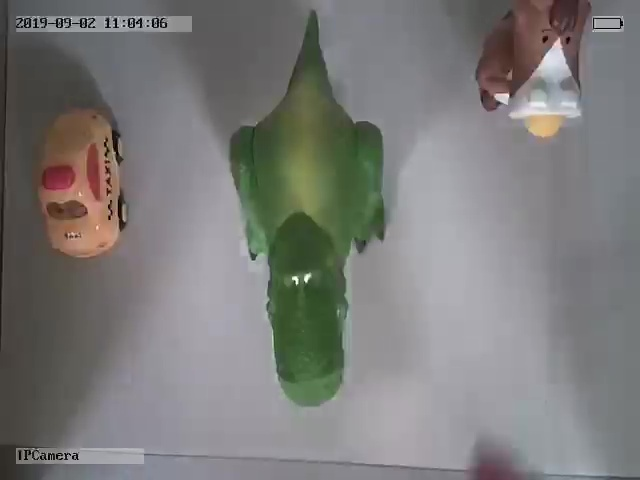car: (36, 107, 131, 258)
rex: (227, 12, 389, 408)
